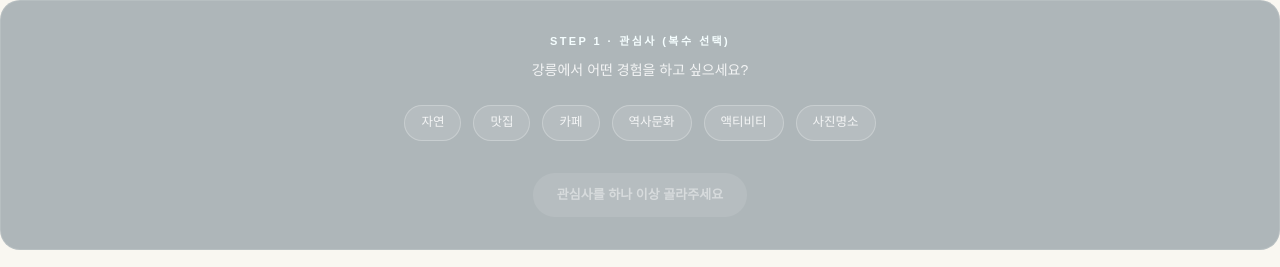
CourseWizard › 관심사를 고르면 다음 단계로 넘어간다
The width and height of the screenshot is (1280, 267).
Step 1. Click the button "자연" → click(433, 122), box [404,104,462,140]
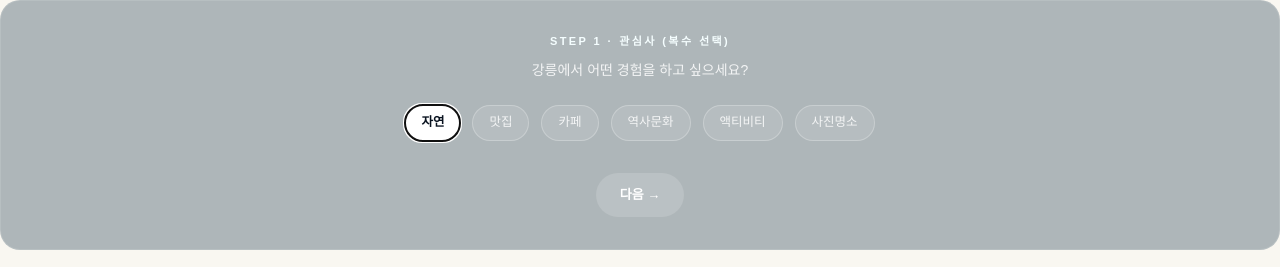
Step 2. Click the button "다음 →" → click(640, 194), box [596,172,684,216]
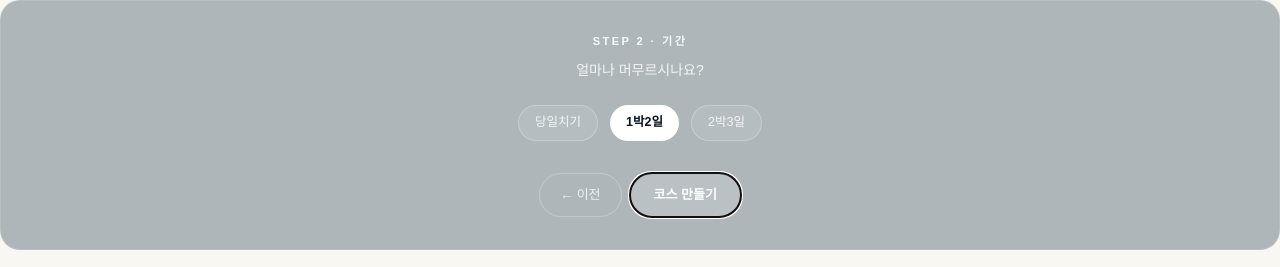
Result: the text "STEP 2 · 기간" is shown at [593,35,687,47]
